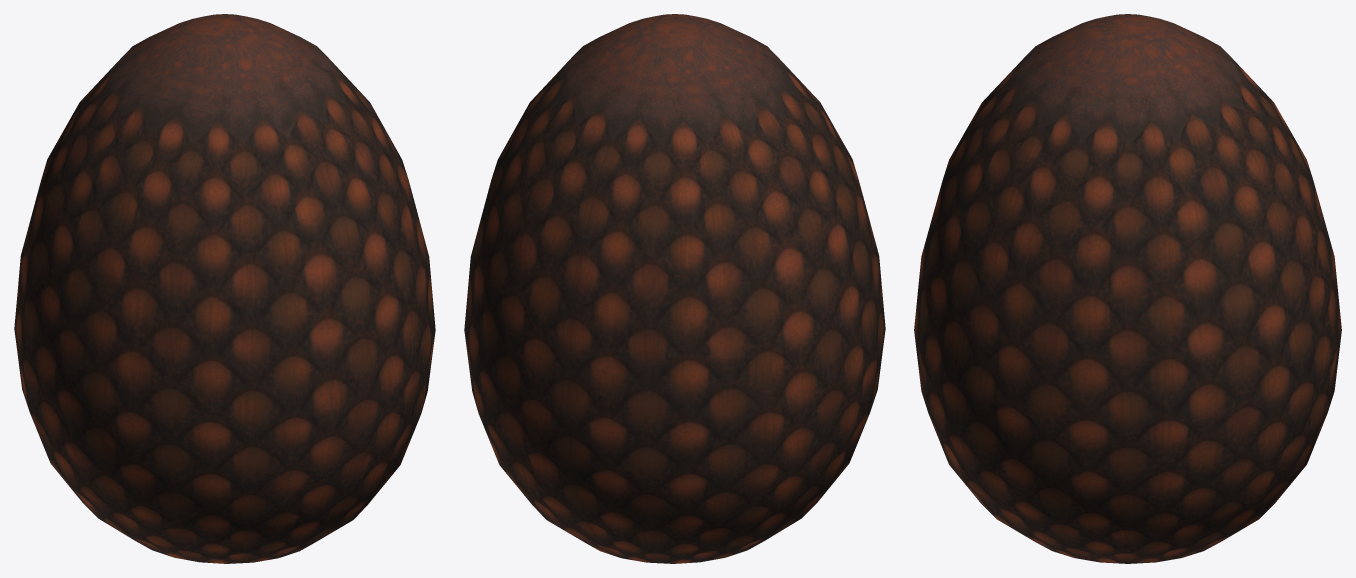
The model's file is DragonEggLow.fbx.
The picture shows the model from 3 angles, left to right: view 1: azimuth 30°, elevation 25°; view 2: azimuth 150°, elevation 25°; view 3: azimuth 270°, elevation 25°; orthographic projection.
Visible parts, largest first — view 1: newEgg; view 2: newEgg; view 3: newEgg.
Boxes of the visible parts, x1,y1,x2,y2 form: newEgg: (14,14,435,563); newEgg: (464,14,885,563); newEgg: (914,14,1341,563).
Bounding box in the file's own units: 1295 × 1769 × 1318.
